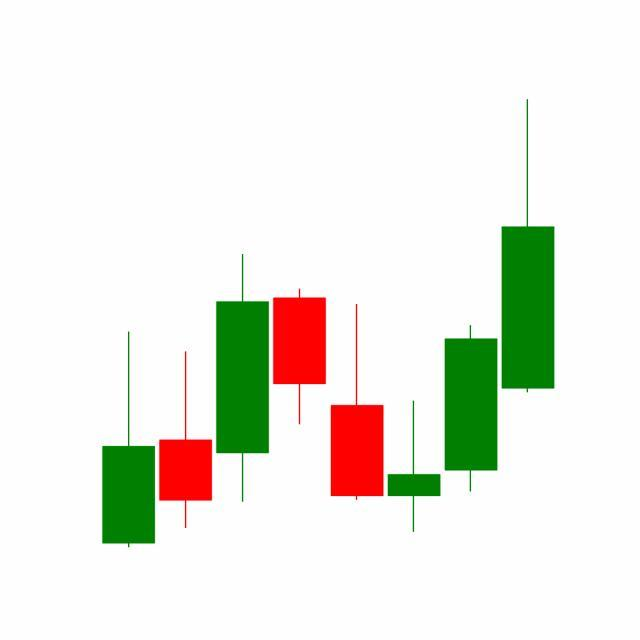Hikkake Pattern: (270, 99, 555, 537)
